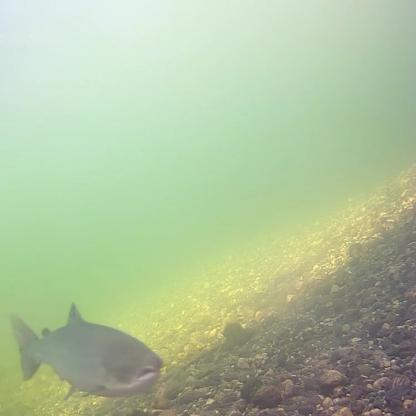salmon: (5, 301, 168, 403)
